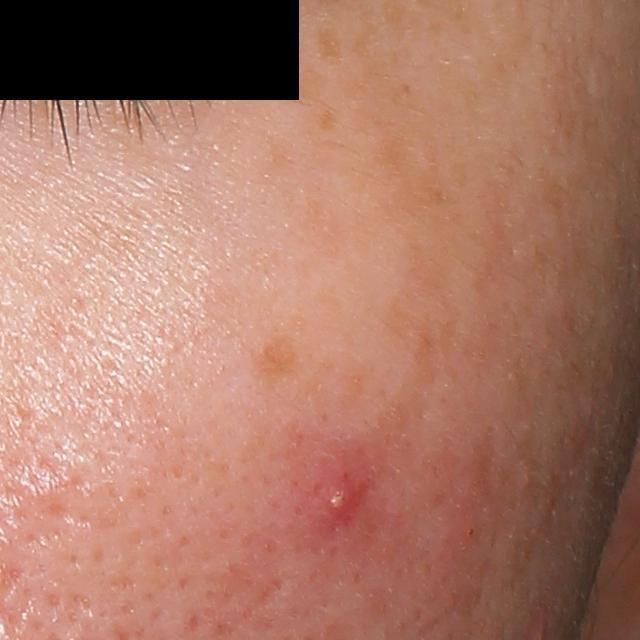melasma: (374, 302, 443, 440), (374, 119, 459, 211), (305, 192, 371, 256), (249, 331, 301, 379), (312, 22, 341, 66), (317, 109, 340, 135)
pustule: (311, 471, 367, 521)
